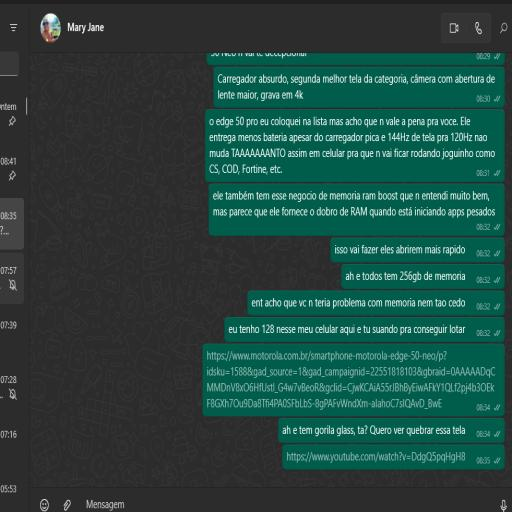mensagem-enviada: (206, 109, 505, 181)
